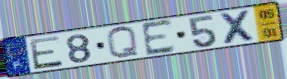5: (186, 13, 218, 49)
8: (65, 33, 94, 64)
E: (140, 17, 177, 58), (28, 34, 65, 71)
Q: (105, 25, 141, 61)
X: (218, 8, 260, 46)
